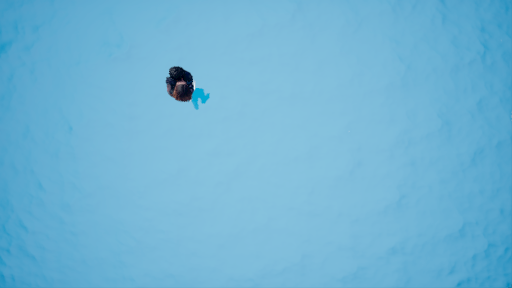person: (159, 66, 216, 112)
